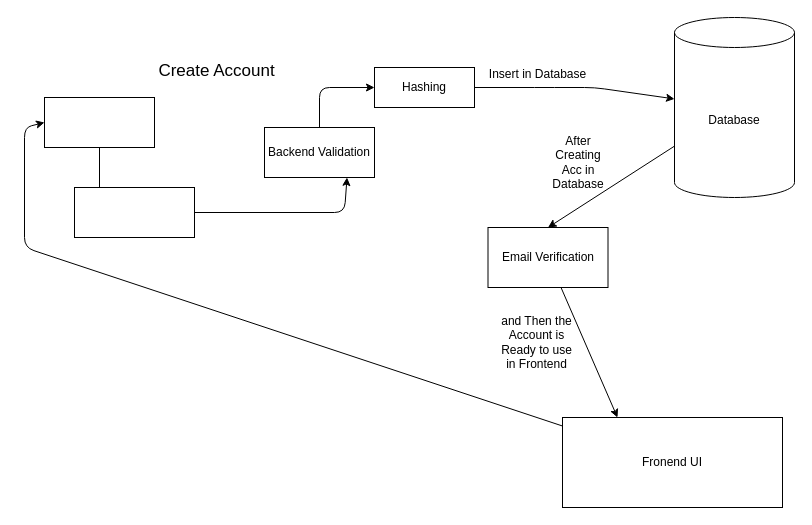
The diagram is 812 pixels wide and 525 high, and some of its shapes have lost their labels. The shapes that lost their labels are listed below. From the top down, each one's centre as x and y in pixels, then its label:
At point 99,122: "SignUp / Create Account".
At point 134,212: "Sends API".
